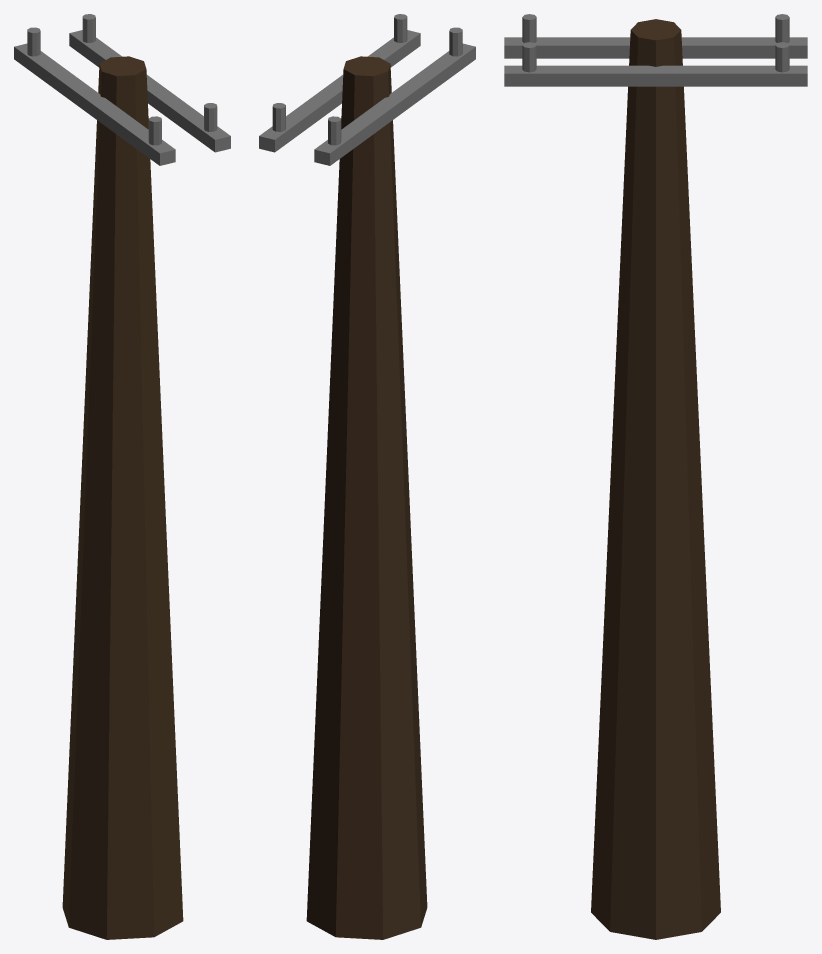
Rendered from tianglistrik.fbx.
3 views of the same model, side by side, from view 1: azimuth 30°, elevation 25°; view 2: azimuth 150°, elevation 25°; view 3: azimuth 270°, elevation 25° (orthographic). The views are drawn at different scales.
Visible parts, largest first — view 1: Cylinder; view 2: Cylinder; view 3: Cylinder.
Part boxes in pixels (box(x1,y1,x2,y2)): Cylinder: box(14, 14, 230, 939); Cylinder: box(259, 14, 475, 939); Cylinder: box(504, 14, 807, 939).
Bounding box in the file's own units: 85.72 × 642 × 200.
